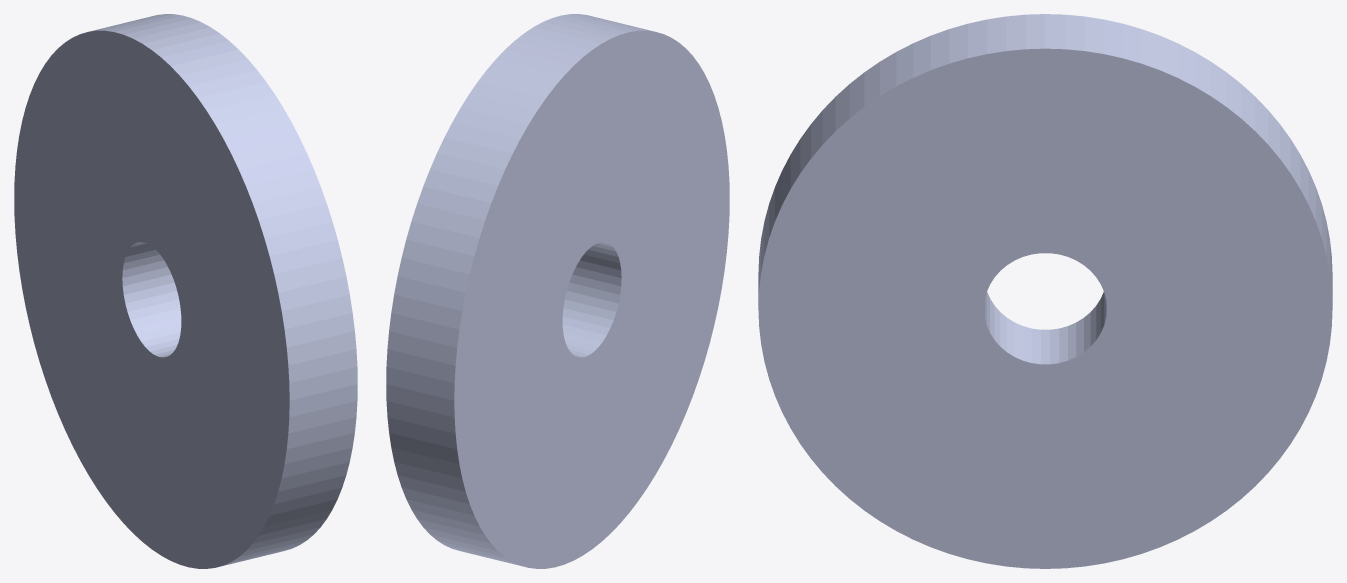
Rendered from Rueda_pequeñaV1.1.dae.
The picture shows the model from 3 angles, left to right: view 1: azimuth 30°, elevation 25°; view 2: azimuth 150°, elevation 25°; view 3: azimuth 270°, elevation 25°; orthographic projection. The views are drawn at different scales.
Visible parts, largest first — view 1: ID2; view 2: ID2; view 3: ID2.
Boxes of the visible parts, x1,y1,x2,y2 form: ID2: [14, 14, 357, 568]; ID2: [386, 14, 729, 568]; ID2: [758, 14, 1332, 568].
Size of the model in its own units: 0.01 by 0.07 by 0.07.
